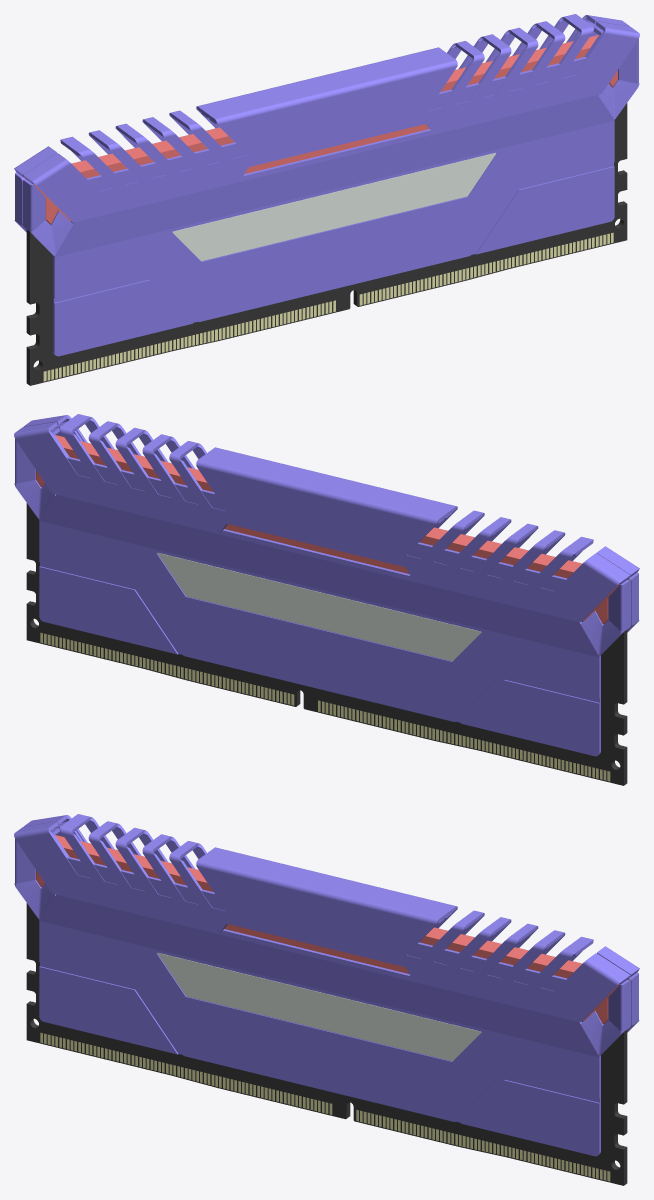
The model's file is Corsair Vengeance LED DDR5.fbx.
3 renders of one model, top to bottom at view 1: azimuth 30°, elevation 25°; view 2: azimuth 150°, elevation 25°; view 3: azimuth 330°, elevation 25°, orthographic.
Parts seen in each view (by area): view 1: Body1 (×4), Body2 (×2); view 2: Body1 (×4), Body2 (×2); view 3: Body1 (×4), Body2 (×2).
Part boxes in pixels (x1,y1,x2,y2): Body1 (×4): (14,14,639,356); Body2 (×2): (26,103,627,385); Body1 (×4): (14,414,639,756); Body2 (×2): (26,503,627,785); Body1 (×4): (14,814,639,1156); Body2 (×2): (26,903,627,1185).
Bounding box in the file's own units: 136 × 49 × 8.3.
